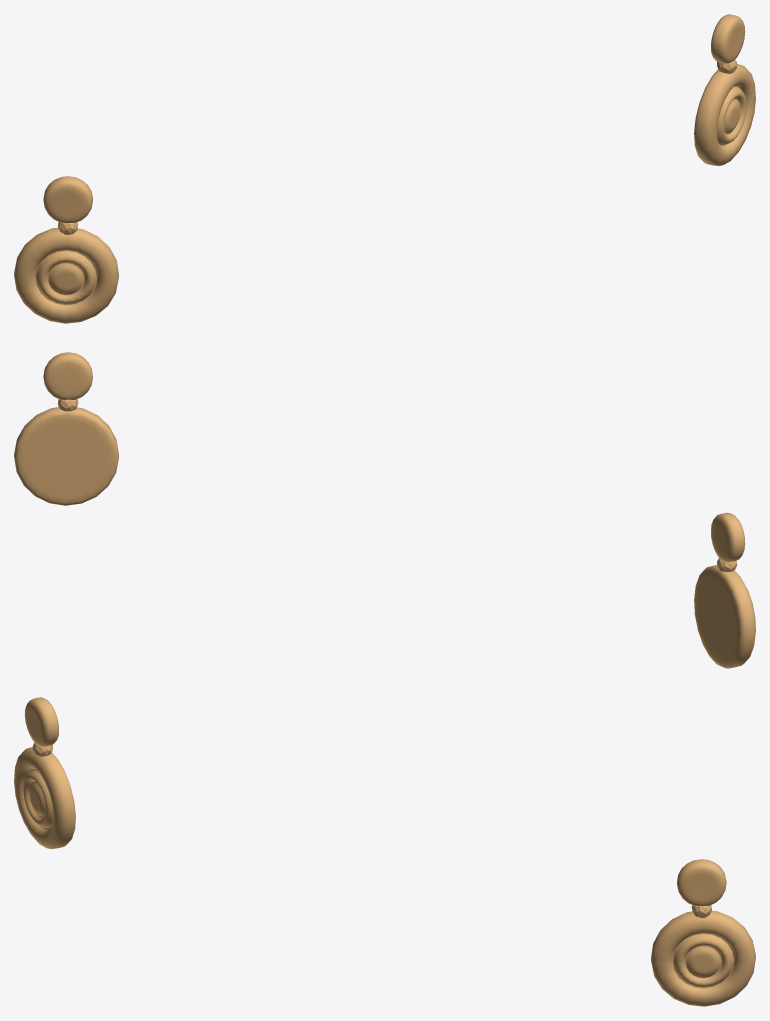
The model's file is earings11.glb.
The picture shows the model from 3 angles, top to bottom: view 1: azimuth 30°, elevation 25°; view 2: azimuth 150°, elevation 25°; view 3: azimuth 330°, elevation 25°; orthographic projection.
Visible parts, largest first — view 1: earrings.011; view 2: earrings.011; view 3: earrings.011.
Boxes of the visible parts, <box> form: earrings.011: <box>14,14,755,323</box>; earrings.011: <box>14,352,755,668</box>; earrings.011: <box>14,697,755,1006</box>.
Size of the model in its own units: 1.49 by 0.2842 by 0.1153.
Materials: 1 (1 with a texture image).
